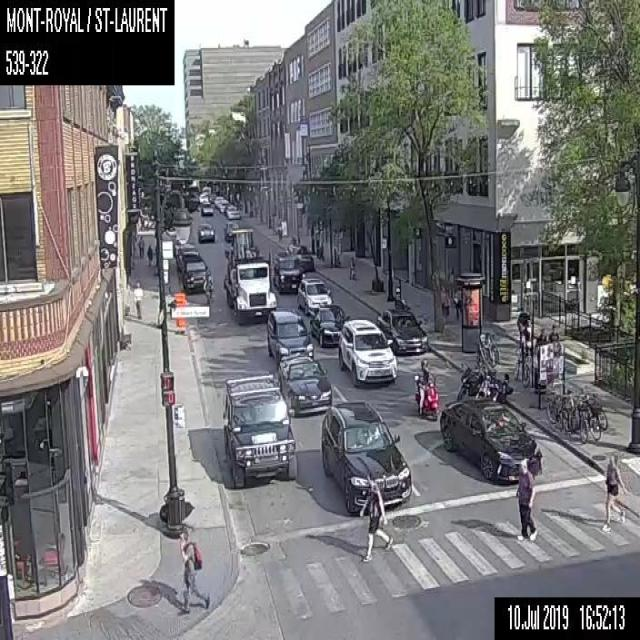construction: (175, 291, 185, 332)
pedestrian: (359, 468, 392, 561), (179, 529, 210, 612), (598, 454, 626, 530), (515, 459, 537, 541), (515, 308, 532, 340), (131, 281, 143, 319), (442, 286, 450, 315), (203, 262, 210, 294), (454, 290, 461, 319), (347, 252, 355, 277), (146, 243, 153, 267), (536, 328, 546, 344), (137, 235, 144, 256), (549, 324, 558, 340)
vehicle: (320, 400, 411, 511), (223, 372, 297, 487), (440, 397, 541, 481), (223, 226, 276, 323), (338, 317, 397, 387), (277, 351, 331, 416), (267, 307, 313, 368), (377, 308, 427, 354), (309, 303, 349, 347), (455, 360, 496, 398), (414, 358, 439, 420), (176, 255, 213, 293), (296, 277, 332, 314), (272, 252, 304, 292), (474, 371, 512, 400), (286, 244, 314, 270), (176, 242, 199, 268), (198, 221, 214, 243), (223, 221, 239, 241), (172, 236, 188, 254), (225, 203, 240, 218), (200, 200, 213, 213), (218, 198, 228, 212), (213, 195, 224, 207), (199, 192, 208, 202), (202, 185, 210, 194), (208, 192, 216, 201)
